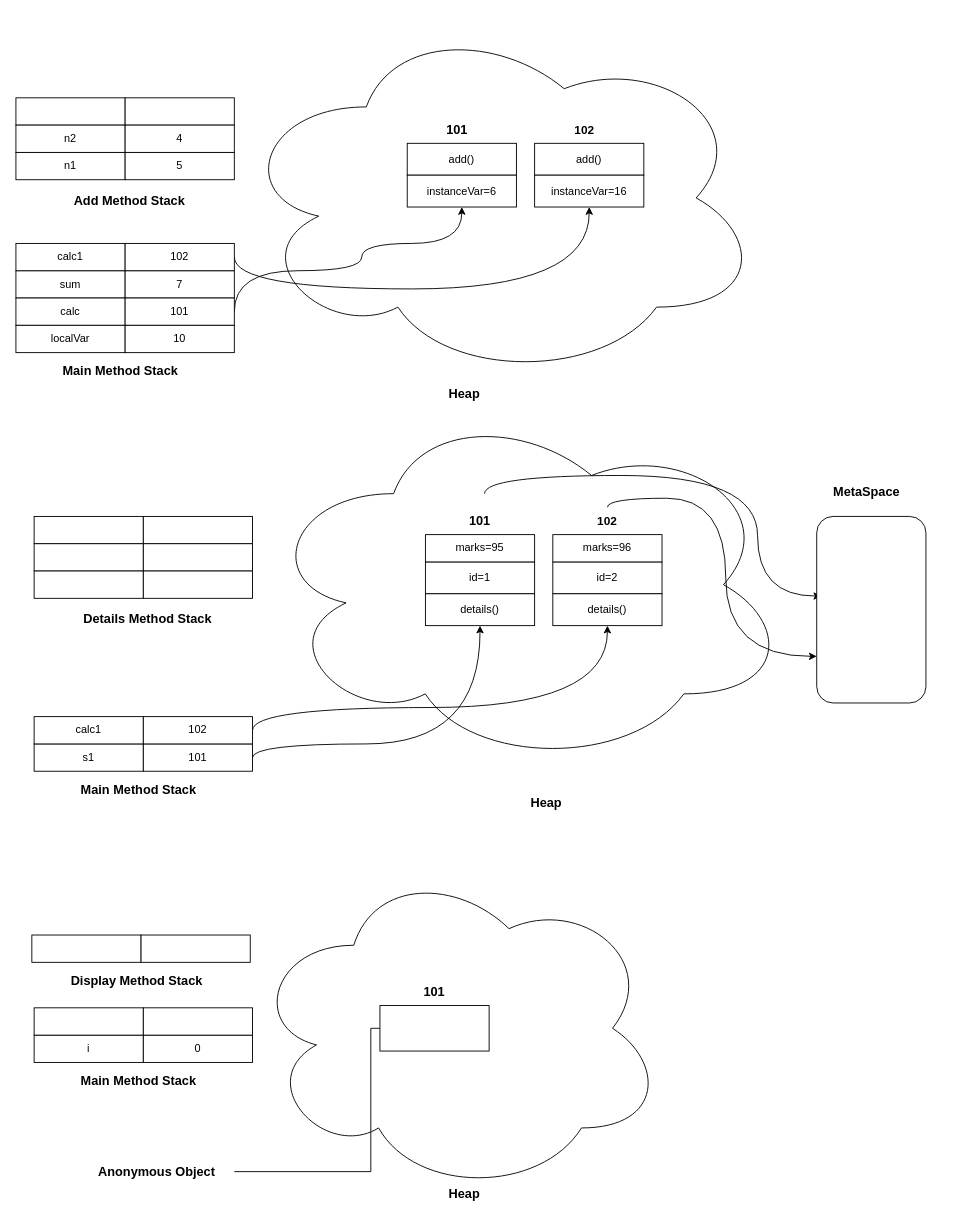
This 960x1224 diagram has some shape labels left out. Each missing label, with the box of its shape:
display(): (379, 1005, 489, 1051)
schoolname=BITS: (816, 516, 926, 703)
